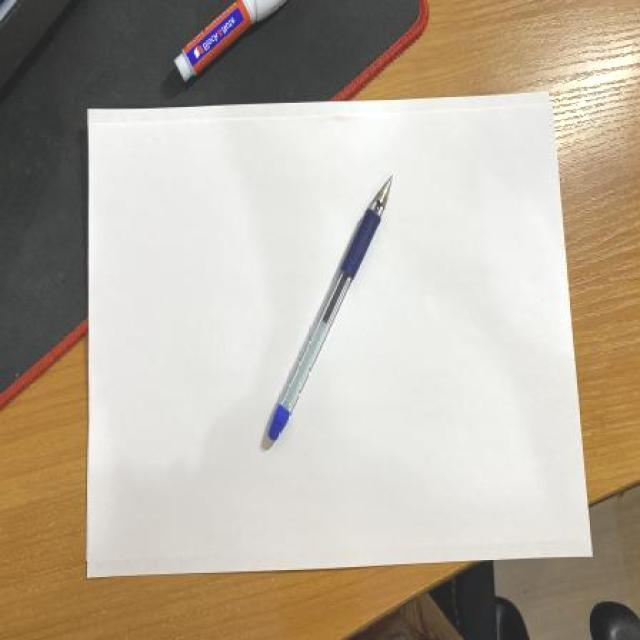pen: (265, 169, 395, 444)
